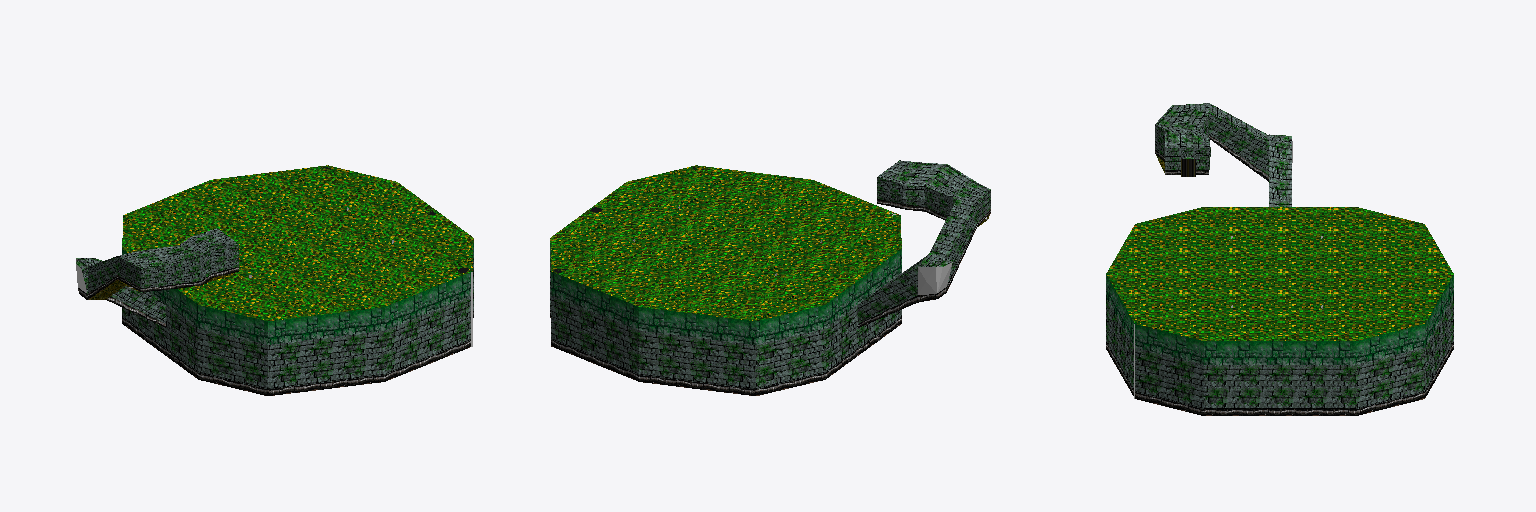
The picture shows the model from 3 angles: view 1: azimuth 30°, elevation 25°; view 2: azimuth 150°, elevation 25°; view 3: azimuth 270°, elevation 25°; orthographic projection.
Visible parts, largest first — view 1: #Room0#_Room0_Grass., #Room0#_Room0_MossyWall., #Room0#_Room0_Wall.003.#MirrorX, #Room0#_Room0_SteelPipe.#MirrorX; view 2: #Room0#_Room0_Grass., #Room0#_Room0_MossyWall., #Room0#_Room0_Wall.003.#MirrorX, #Room0#_Room0_SteelPipe.#MirrorX, #Room0#_Room0_Dirt.016#SFX_0; view 3: #Room0#_Room0_Grass., #Room0#_Room0_MossyWall., #Room0#_Room0_Wall.003.#MirrorX, #Room0#_Room0_SteelPipe.#MirrorX.
Part boxes in pixels (left/top/right/bottom): #Room0#_Room0_Grass.: left=122, top=165, right=473, bottom=320; #Room0#_Room0_MossyWall.: left=76, top=228, right=473, bottom=388; #Room0#_Room0_Wall.003.#MirrorX: left=122, top=243, right=473, bottom=344; #Room0#_Room0_SteelPipe.#MirrorX: left=78, top=267, right=473, bottom=395; #Room0#_Room0_Grass.: left=550, top=165, right=901, bottom=320; #Room0#_Room0_MossyWall.: left=550, top=160, right=990, bottom=388; #Room0#_Room0_Wall.003.#MirrorX: left=550, top=243, right=901, bottom=344; #Room0#_Room0_SteelPipe.#MirrorX: left=550, top=199, right=990, bottom=395; #Room0#_Room0_Dirt.016#SFX_0: left=918, top=262, right=952, bottom=294; #Room0#_Room0_Grass.: left=1106, top=207, right=1453, bottom=340; #Room0#_Room0_MossyWall.: left=1106, top=103, right=1453, bottom=408; #Room0#_Room0_Wall.003.#MirrorX: left=1106, top=275, right=1453, bottom=364; #Room0#_Room0_SteelPipe.#MirrorX: left=1106, top=134, right=1453, bottom=415.
Size of the model in its own units: 3364 by 1356 by 2821.
24 materials, 9 textured.